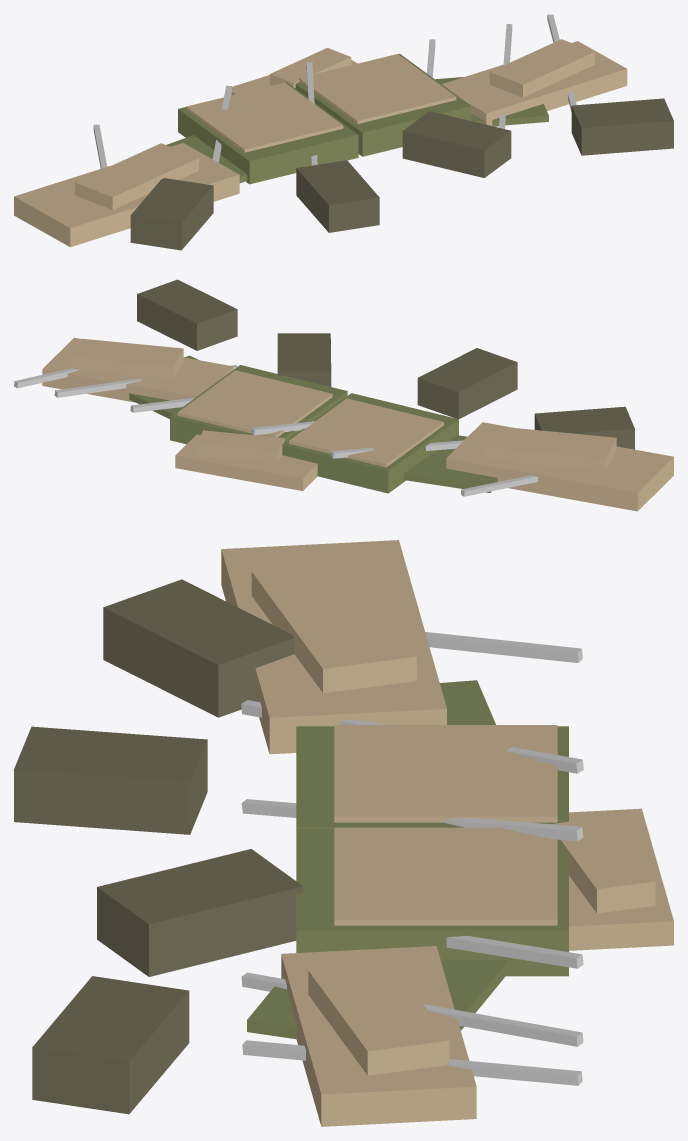
The model's file is SM_HescoCorto2_v3_RemateSacos_e3_Brecha_LOD0.fbx.
The picture shows the model from 3 angles, top to bottom: view 1: azimuth 30°, elevation 25°; view 2: azimuth 150°, elevation 25°; view 3: azimuth 270°, elevation 25°; orthographic projection. The views are drawn at different scales.
Visible parts, largest first — view 1: SM_hesco_piezas_v75_LOD0; view 2: SM_hesco_piezas_v75_LOD0; view 3: SM_hesco_piezas_v75_LOD0.
Boxes of the visible parts, left/top/right/bottom form: SM_hesco_piezas_v75_LOD0: left=14, top=14, right=673, bottom=250; SM_hesco_piezas_v75_LOD0: left=14, top=279, right=673, bottom=511; SM_hesco_piezas_v75_LOD0: left=14, top=540, right=673, bottom=1126.
Bounding box in the file's own units: 5.83 × 0.3263 × 2.95.
